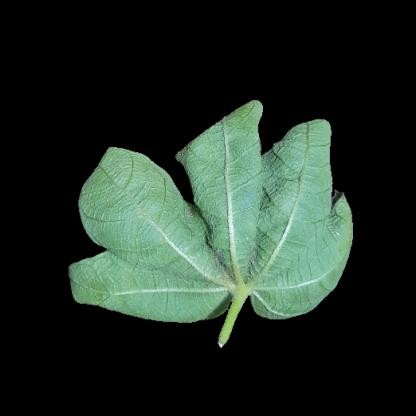curl_stage2: (203, 159, 276, 281), (104, 178, 174, 270), (279, 185, 330, 295), (137, 270, 222, 317), (79, 261, 134, 311), (287, 134, 331, 182), (211, 127, 261, 157)
